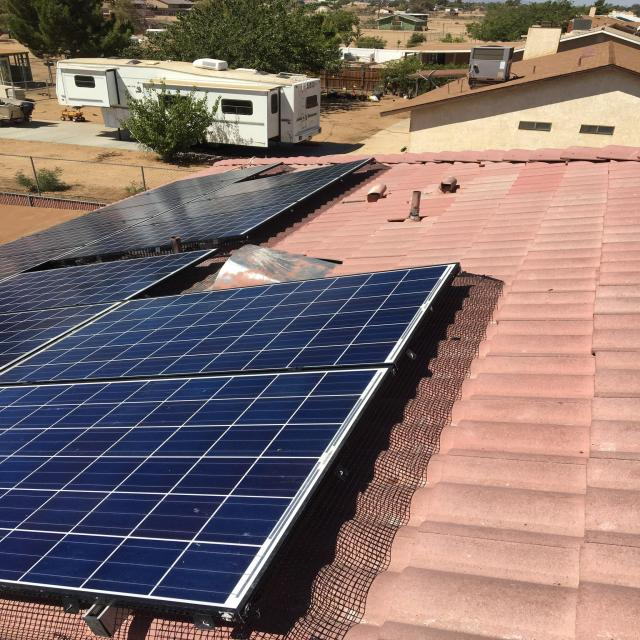clean-solar-panel: (0, 159, 457, 619)
